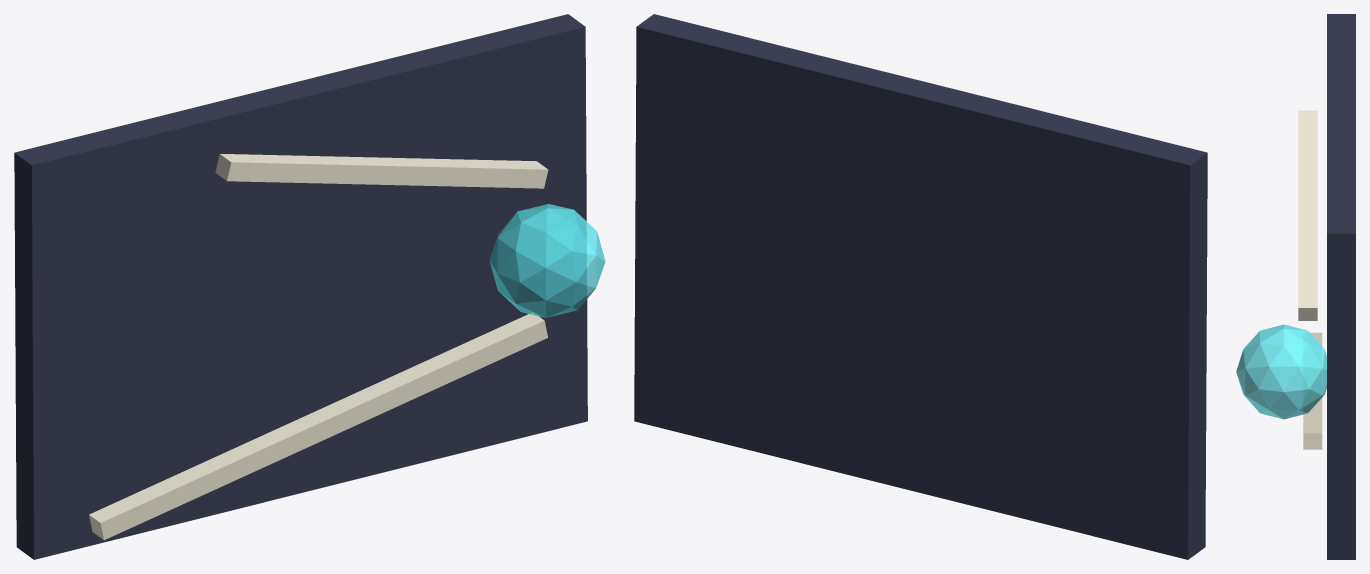
Rendered from 02_world_prop_polish.glb.
3 renders of one model, left to right at view 1: azimuth 30°, elevation 25°; view 2: azimuth 150°, elevation 25°; view 3: azimuth 270°, elevation 25°, orthographic. The views are drawn at different scales.
Visible parts, largest first — view 1: object_overlay_plate, edge_wear_a, glow_socket, edge_wear_b; view 2: object_overlay_plate; view 3: object_overlay_plate, glow_socket, edge_wear_b, edge_wear_a.
Part boxes in pixels (box(x1,y1,x2,y2)): object_overlay_plate: box(14, 14, 587, 559); edge_wear_a: box(89, 313, 547, 540); glow_socket: box(489, 204, 605, 317); edge_wear_b: box(215, 154, 548, 188); object_overlay_plate: box(634, 14, 1207, 559); object_overlay_plate: box(1327, 14, 1355, 559); glow_socket: box(1236, 324, 1326, 419); edge_wear_b: box(1298, 110, 1317, 320); edge_wear_a: box(1303, 332, 1322, 449).
Bounding box in the file's own units: 1.1 × 0.7566 × 0.25.
